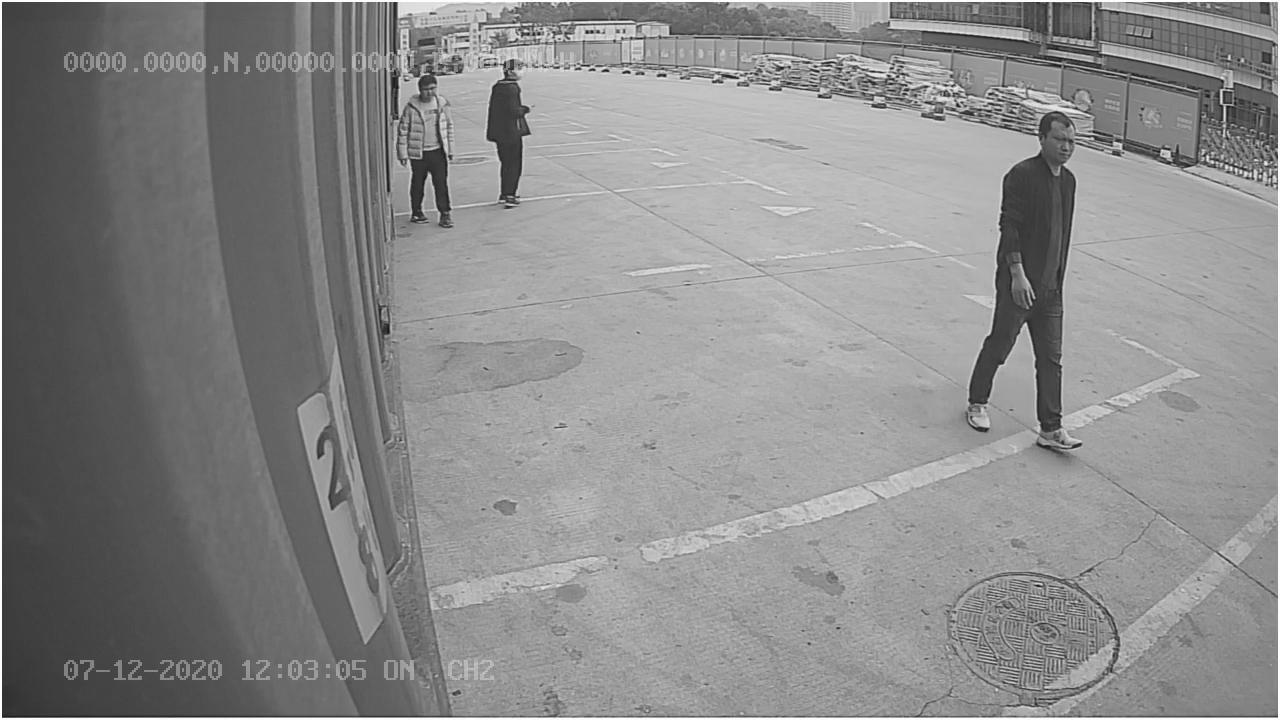person: (963, 101, 1098, 459)
